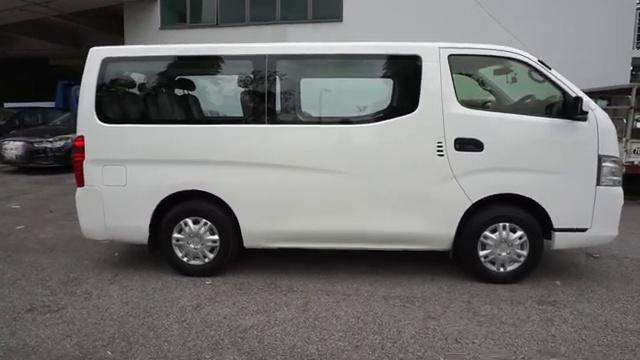Van: (77, 43, 624, 276)
